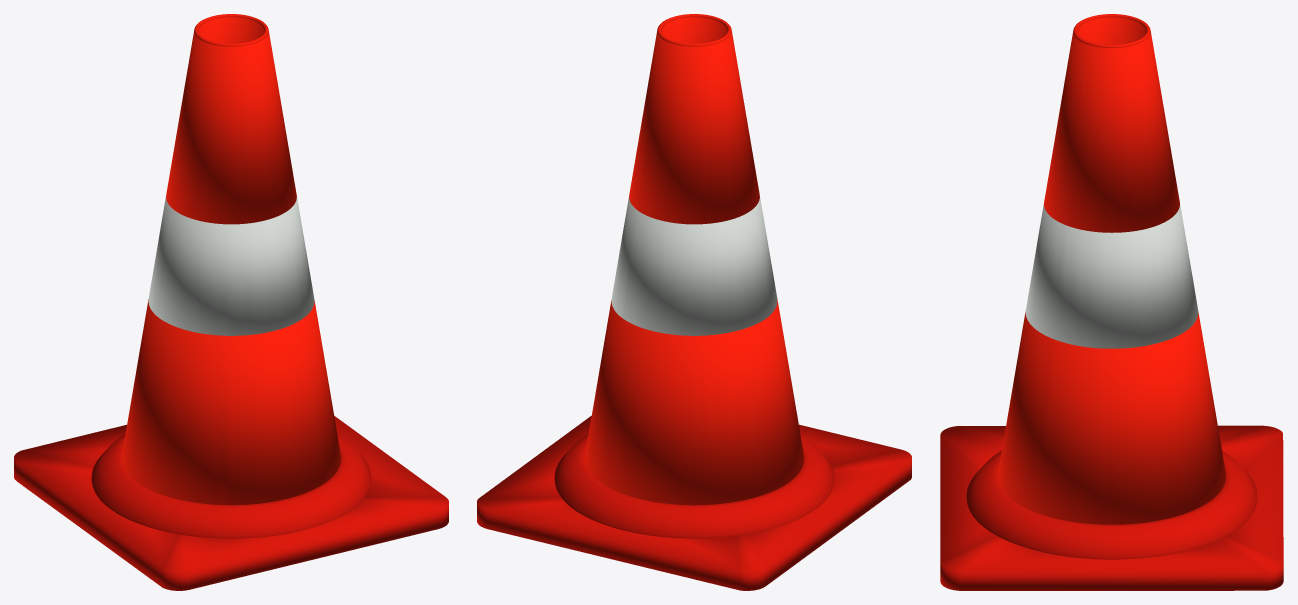
3 renders of one model, left to right at view 1: azimuth 30°, elevation 25°; view 2: azimuth 150°, elevation 25°; view 3: azimuth 270°, elevation 25°, orthographic. The views are drawn at different scales.
Parts seen in each view (by area): view 1: /Asset/Links/traffic_cone/Visuals/lower_orange_shell/Geom/me, /Asset/Links/traffic_cone/Visuals/rounded_square_base/Geom/m, /Asset/Links/traffic_cone/Visuals/upper_orange_shell/Geom/me, /Asset/Links/traffic_cone/Visuals/reflective_shell_band/Geom, /Asset/Links/traffic_cone/Visuals/raised_base_plinth/Geom/me, /Asset/Links/traffic_cone/Visuals/rounded_top_lip/Geom/mesh; view 2: /Asset/Links/traffic_cone/Visuals/lower_orange_shell/Geom/me, /Asset/Links/traffic_cone/Visuals/rounded_square_base/Geom/m, /Asset/Links/traffic_cone/Visuals/upper_orange_shell/Geom/me, /Asset/Links/traffic_cone/Visuals/reflective_shell_band/Geom, /Asset/Links/traffic_cone/Visuals/raised_base_plinth/Geom/me, /Asset/Links/traffic_cone/Visuals/rounded_top_lip/Geom/mesh; view 3: /Asset/Links/traffic_cone/Visuals/lower_orange_shell/Geom/me, /Asset/Links/traffic_cone/Visuals/rounded_square_base/Geom/m, /Asset/Links/traffic_cone/Visuals/upper_orange_shell/Geom/me, /Asset/Links/traffic_cone/Visuals/reflective_shell_band/Geom, /Asset/Links/traffic_cone/Visuals/raised_base_plinth/Geom/me, /Asset/Links/traffic_cone/Visuals/rounded_top_lip/Geom/mesh.
Boxes of the visible parts, left/top/right/bottom form: /Asset/Links/traffic_cone/Visuals/lower_orange_shell/Geom/me: left=121, top=299, right=341, bottom=505; /Asset/Links/traffic_cone/Visuals/rounded_square_base/Geom/m: left=14, top=416, right=448, bottom=590; /Asset/Links/traffic_cone/Visuals/upper_orange_shell/Geom/me: left=166, top=17, right=296, bottom=224; /Asset/Links/traffic_cone/Visuals/reflective_shell_band/Geom: left=148, top=195, right=314, bottom=335; /Asset/Links/traffic_cone/Visuals/raised_base_plinth/Geom/me: left=91, top=434, right=371, bottom=538; /Asset/Links/traffic_cone/Visuals/rounded_top_lip/Geom/mesh: left=194, top=14, right=268, bottom=46; /Asset/Links/traffic_cone/Visuals/lower_orange_shell/Geom/me: left=584, top=299, right=804, bottom=505; /Asset/Links/traffic_cone/Visuals/rounded_square_base/Geom/m: left=477, top=416, right=911, bottom=590; /Asset/Links/traffic_cone/Visuals/upper_orange_shell/Geom/me: left=629, top=17, right=759, bottom=224; /Asset/Links/traffic_cone/Visuals/reflective_shell_band/Geom: left=611, top=195, right=777, bottom=335; /Asset/Links/traffic_cone/Visuals/raised_base_plinth/Geom/me: left=554, top=434, right=834, bottom=538; /Asset/Links/traffic_cone/Visuals/rounded_top_lip/Geom/mesh: left=657, top=14, right=731, bottom=46; /Asset/Links/traffic_cone/Visuals/lower_orange_shell/Geom/me: left=997, top=312, right=1226, bottom=524; /Asset/Links/traffic_cone/Visuals/rounded_square_base/Geom/m: left=940, top=425, right=1283, bottom=590; /Asset/Links/traffic_cone/Visuals/upper_orange_shell/Geom/me: left=1044, top=17, right=1179, bottom=232; /Asset/Links/traffic_cone/Visuals/reflective_shell_band/Geom: left=1025, top=204, right=1198, bottom=348; /Asset/Links/traffic_cone/Visuals/raised_base_plinth/Geom/me: left=966, top=450, right=1257, bottom=559; /Asset/Links/traffic_cone/Visuals/rounded_top_lip/Geom/mesh: left=1073, top=14, right=1150, bottom=47.
Size of the model in its own units: 0.46 by 0.723 by 0.46.
